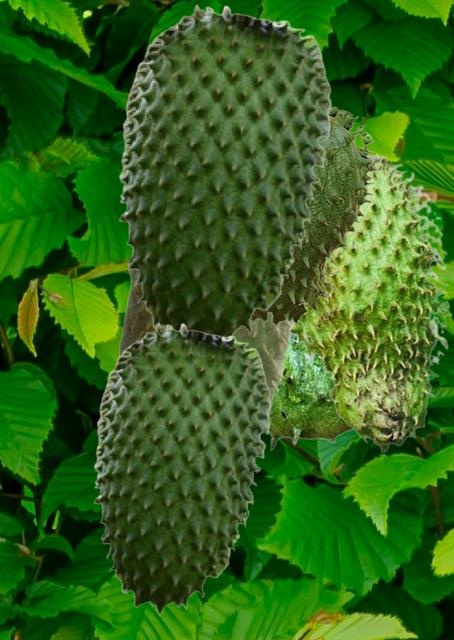guyabano: (118, 4, 331, 335), (93, 322, 270, 614), (288, 152, 451, 452), (118, 266, 291, 437), (251, 106, 379, 331), (268, 336, 352, 450)
